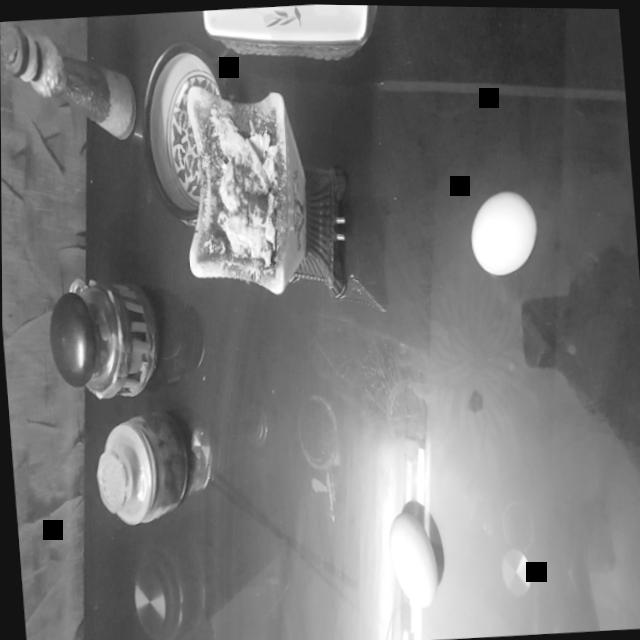eggs: (468, 183, 541, 274), (388, 506, 440, 607)
